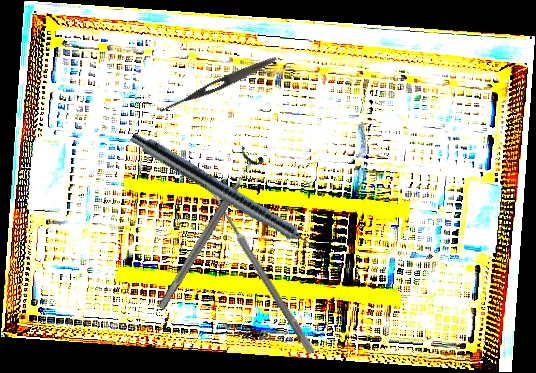Dressing Forceps: (156, 53, 279, 118)
Fixation Ring: (148, 145, 267, 316)
Handpiece: (125, 129, 332, 264)
Surgical Spoon: (203, 182, 317, 355)
